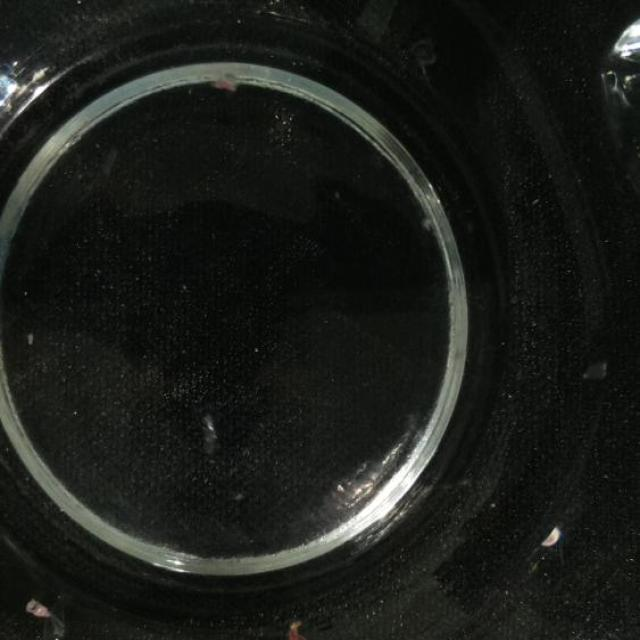fiber: (18, 590, 67, 627), (271, 620, 318, 639)
